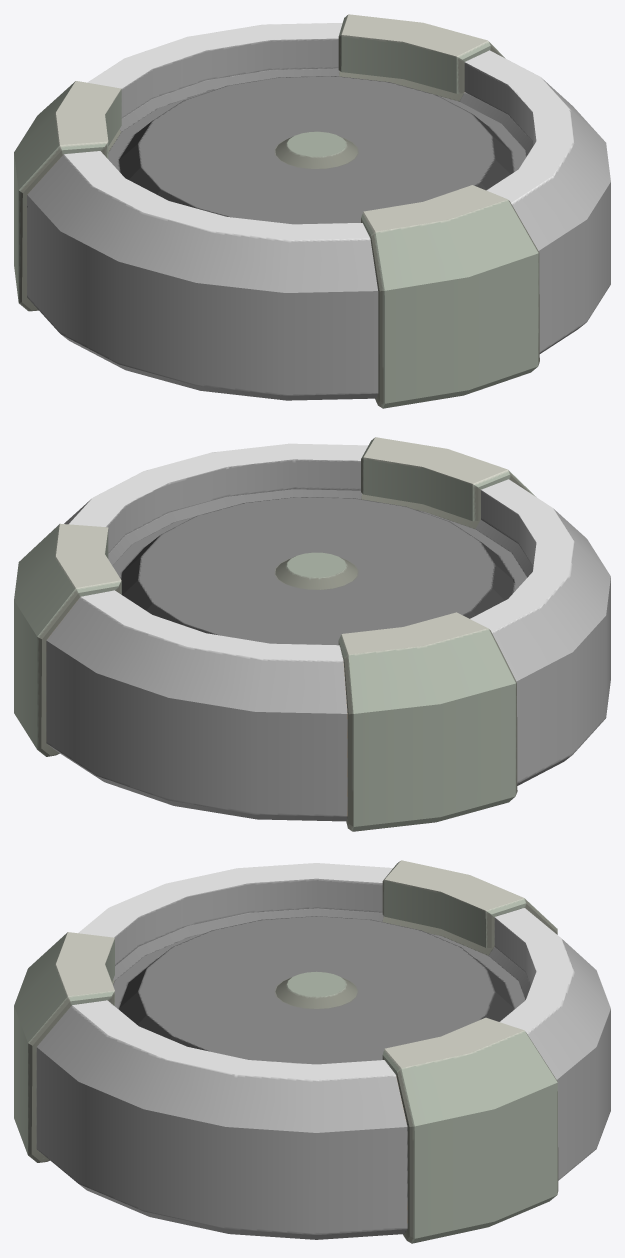
File: barrelPartC.fbx
The picture shows the model from 3 angles, top to bottom: view 1: azimuth 30°, elevation 25°; view 2: azimuth 150°, elevation 25°; view 3: azimuth 270°, elevation 25°; orthographic projection.
Parts seen in each view (by area): view 1: barrelPartC; view 2: barrelPartC; view 3: barrelPartC.
Part boxes in pixels (x1,y1,x2,y2): barrelPartC: (14, 14, 610, 408); barrelPartC: (14, 437, 610, 831); barrelPartC: (14, 860, 610, 1243).
Bounding box in the file's own units: 144 × 44 × 146.
